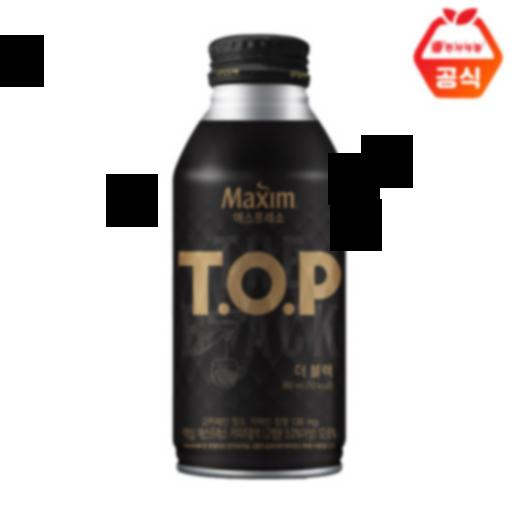TOP_black: (162, 22, 354, 481)
